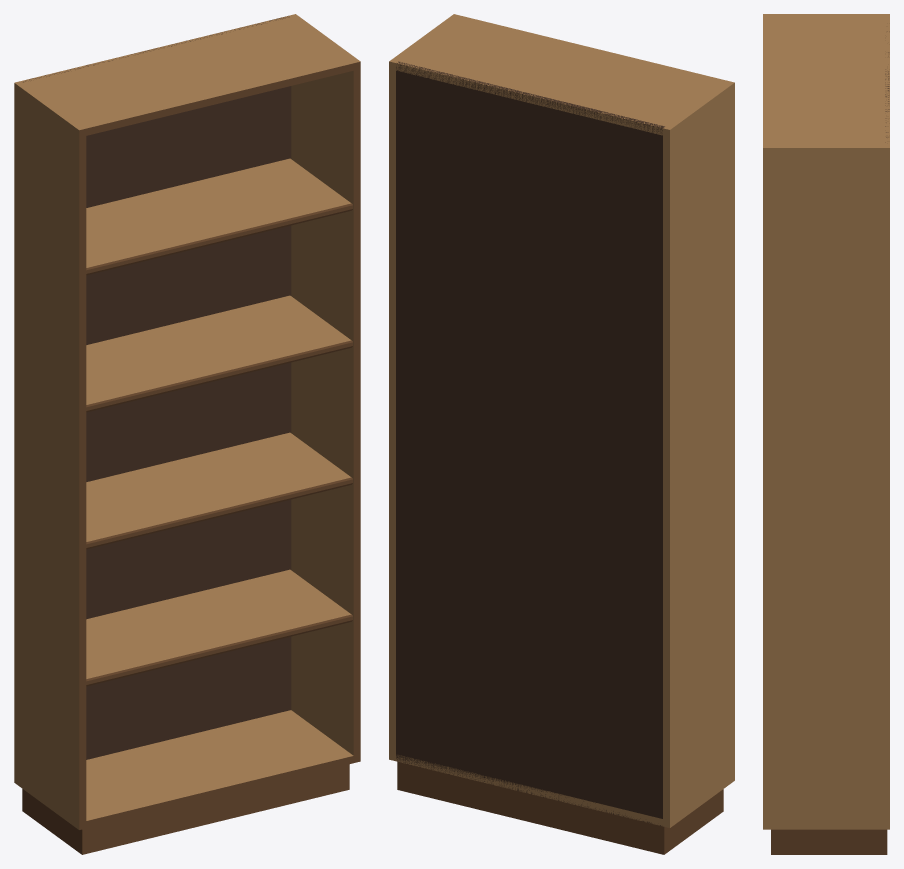
File: FN_Bookcase_Tall.obj
3 views of the same model, side by side, from view 1: azimuth 30°, elevation 25°; view 2: azimuth 150°, elevation 25°; view 3: azimuth 270°, elevation 25° (orthographic). The views are drawn at different scales.
Visible parts, largest first — view 1: FN_Bookcase_Tall; view 2: FN_Bookcase_Tall; view 3: FN_Bookcase_Tall.
Part boxes in pixels (x1,y1,x2,y2): FN_Bookcase_Tall: [14, 14, 360, 854]; FN_Bookcase_Tall: [389, 14, 734, 854]; FN_Bookcase_Tall: [763, 14, 889, 854].
Bounding box in the file's own units: 0.8 × 1.98 × 0.32.
1 material, 1 textured.
